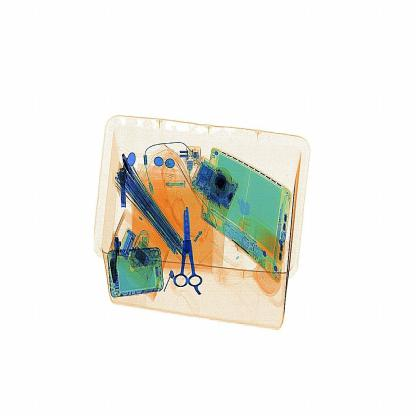gun: (166, 196, 212, 297)
